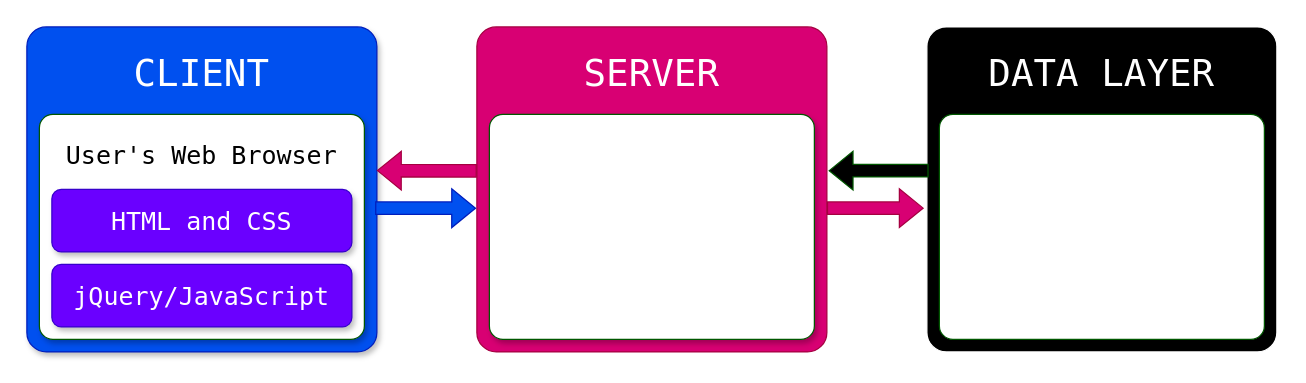
This 1306x383 diagram has some shape labels left out. Each missing label, with the centre of its shape:
"Database" goes at [1102,228].
"Web App Server" goes at [652,228].
